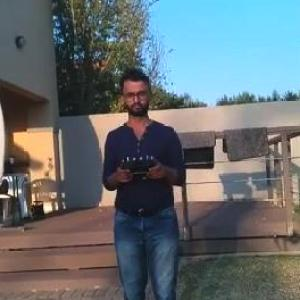follow: (97, 59, 192, 299)
